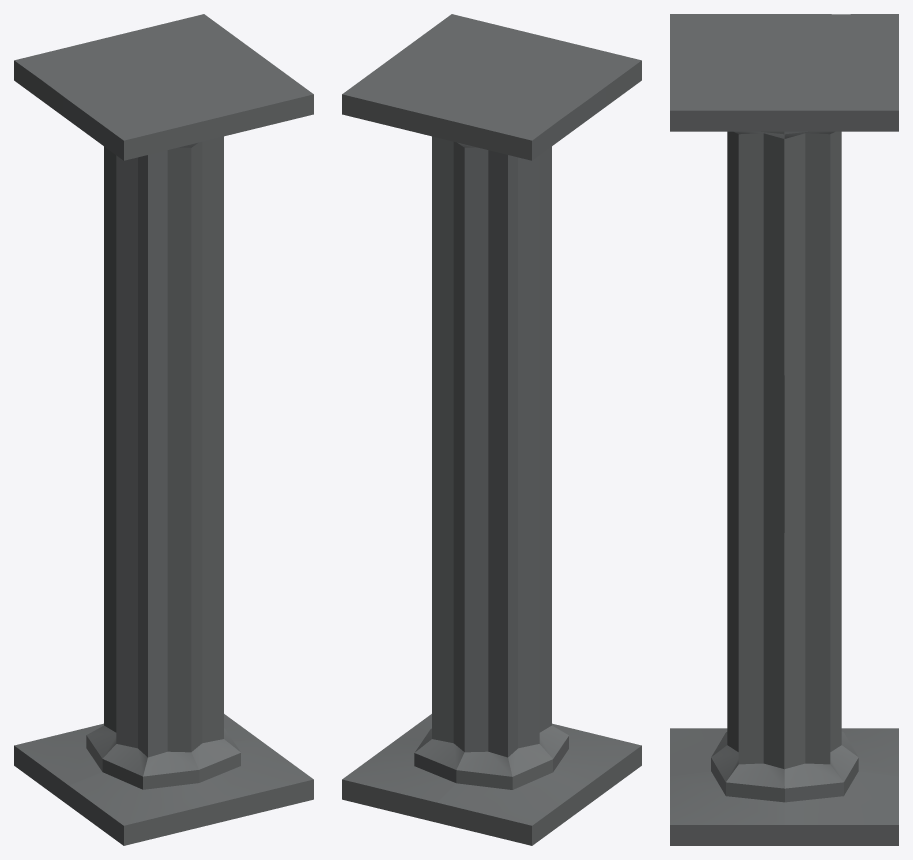
The model's file is PillarBeachWhole.fbx.
The picture shows the model from 3 angles, left to right: view 1: azimuth 30°, elevation 25°; view 2: azimuth 150°, elevation 25°; view 3: azimuth 270°, elevation 25°; orthographic projection. The views are drawn at different scales.
Parts seen in each view (by area): view 1: L. Pillar 2; view 2: L. Pillar 2; view 3: L. Pillar 2.
Part boxes in pixels (x1=…): L. Pillar 2: x1=14, y1=14, x2=313, y2=845; L. Pillar 2: x1=342, y1=14, x2=641, y2=845; L. Pillar 2: x1=670, y1=14, x2=898, y2=845.
Bounding box in the file's own units: 358 × 1270 × 358.
